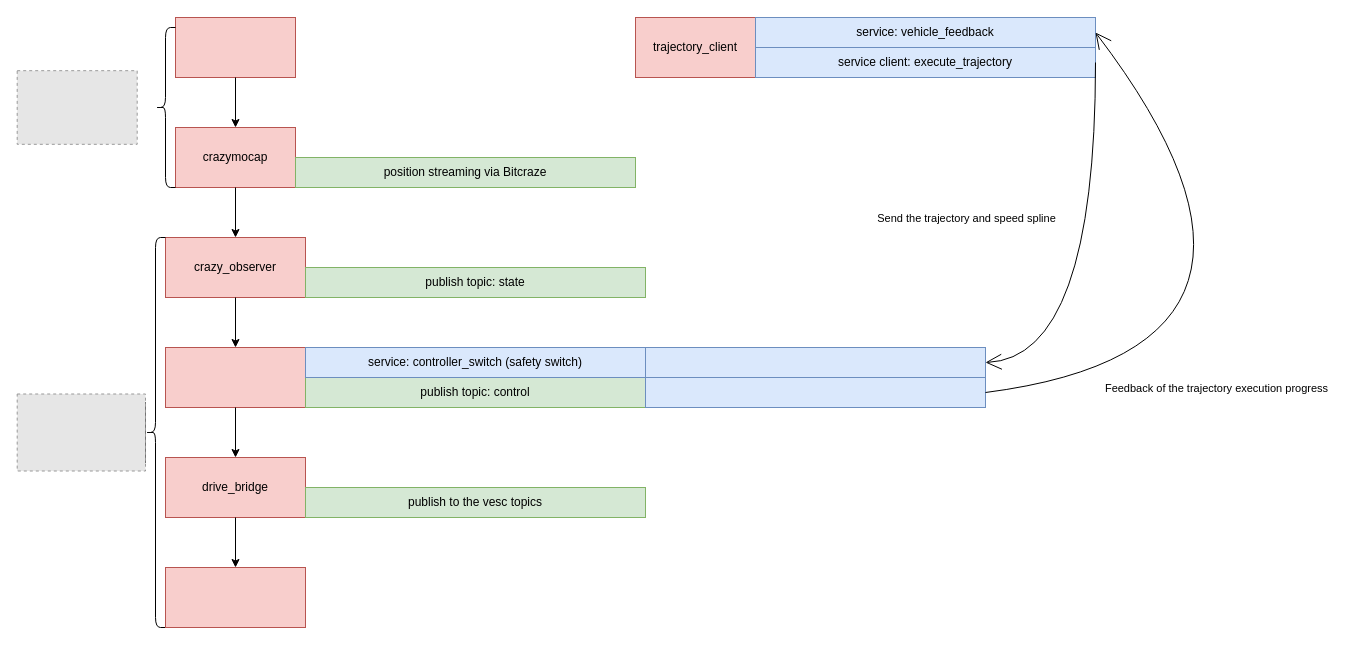
Image size: 1346x645. Some labels were removed from this diagram. Grey dashed boxes stand in for pictures. The centre of each missing label's shape, as x and y in pixels:
"Motion-capture" belongs at point 235,47.
"service client: vehicle_feedback (publish feedback)" belongs at point 815,392.
"service: execute_trajectory" belongs at point 815,362.
"vehicle_control" belongs at point 235,377.
"vesc" belongs at point 235,597.
